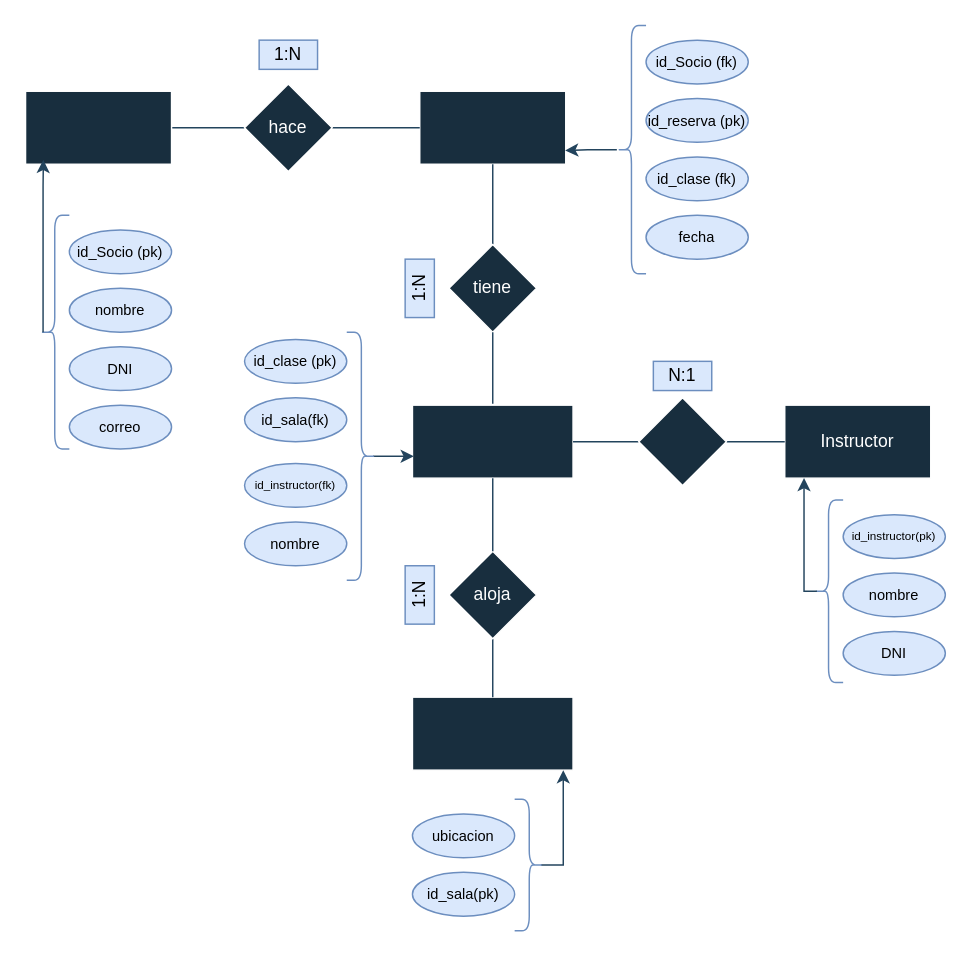
Some shapes in this 971 by 956 pixel diagram are drawn without their labels. Here are the shapes that lost their labels. From the top down, the box of each, then its label:
(24, 90, 172, 164): Socio
(418, 90, 566, 164): Reserva
(411, 404, 573, 478): Clase
(637, 396, 726, 485): imparte
(411, 696, 573, 770): Sala
